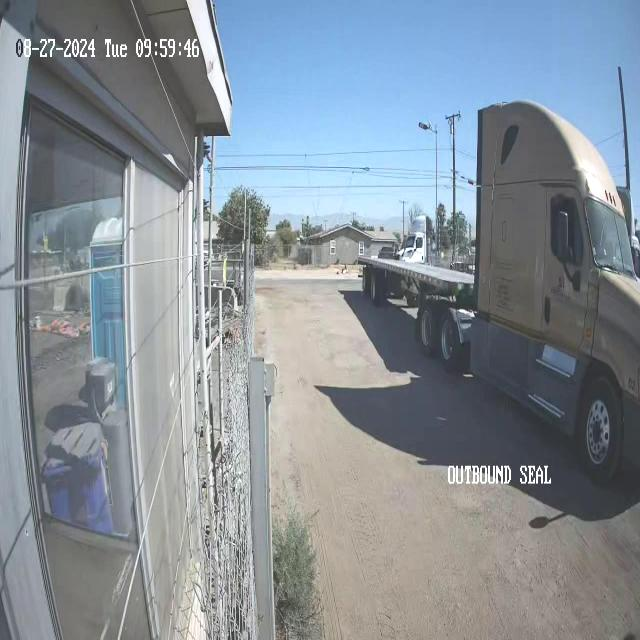BOBTAIL: (357, 98, 639, 484)
